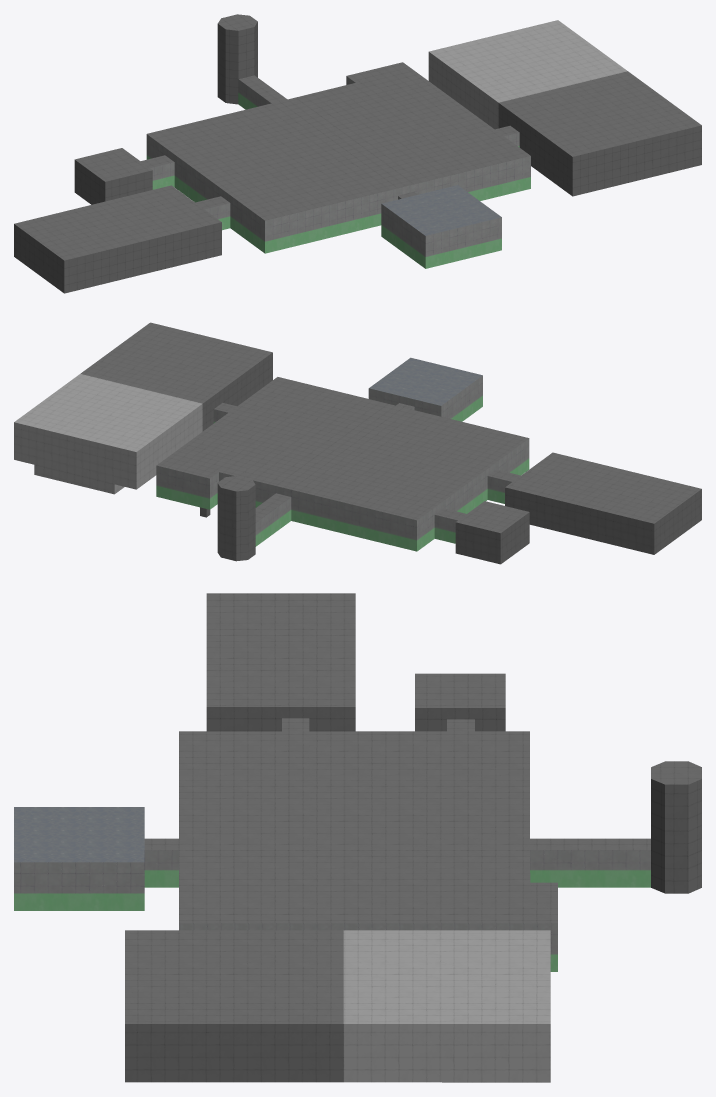
The model's file is 05_Base_SceneV2_Map.fbx.
The picture shows the model from 3 angles, top to bottom: view 1: azimuth 30°, elevation 25°; view 2: azimuth 150°, elevation 25°; view 3: azimuth 270°, elevation 25°; orthographic projection. The views are drawn at different scales.
Visible parts, largest first — view 1: Mat_Tile_FloorCement02, BasementWall, Mat_Tile_FloorCement02 6, BaseGround2; view 2: Mat_Tile_FloorCement02, Mat_Tile_FloorCement02 6, BasementWall, BaseGround2; view 3: Mat_Tile_FloorCement02, Mat_Tile_FloorCement02 6, BasementWall, BaseGround2.
Boxes of the visible parts, x1,y1,x2,y2 form: Mat_Tile_FloorCement02: (14,14,701,293); BasementWall: (146,76,530,268); Mat_Tile_FloorCement02 6: (428,20,627,129); BaseGround2: (382,185,501,235); Mat_Tile_FloorCement02: (80,322,701,564); Mat_Tile_FloorCement02 6: (14,374,202,494); BasementWall: (156,375,529,551); BaseGround2: (369,357,482,405); Mat_Tile_FloorCement02: (125,593,701,1082); Mat_Tile_FloorCement02 6: (343,930,550,1082); BasementWall: (14,850,650,971); BaseGround2: (14,807,144,862).
Bounding box in the file's own units: 75.74 × 10.04 × 50.
8 materials, 8 textured.
